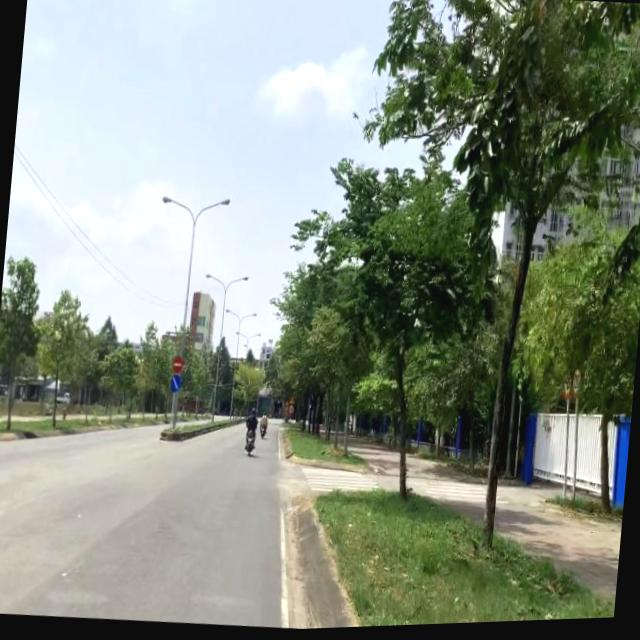Cam di nguoc chieu: (171, 355, 183, 376)
Giao nhau voi duong khong uu tien ben phai: (288, 397, 294, 407)
Toc do toi da cho phep: (286, 406, 294, 418)
Vong chuong ngai vat sang phai: (170, 374, 182, 394)
